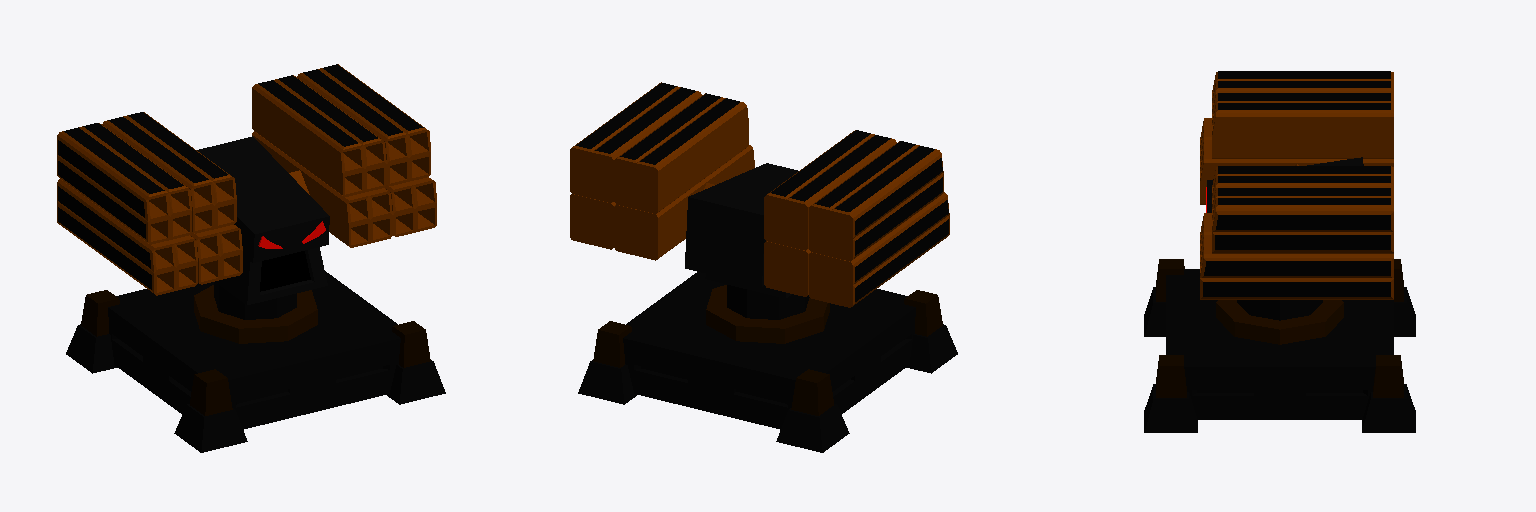
Rendered from MissileTurret.obj.
The picture shows the model from 3 angles: view 1: azimuth 30°, elevation 25°; view 2: azimuth 150°, elevation 25°; view 3: azimuth 270°, elevation 25°; orthographic projection.
Parts seen in each view (by area): view 1: GunsMissileTurret1, BaseMissileTurret1, HeadMissileTurret1, MiddleMissileTurret1; view 2: GunsMissileTurret1, BaseMissileTurret1, HeadMissileTurret1, MiddleMissileTurret1; view 3: GunsMissileTurret1, BaseMissileTurret1, MiddleMissileTurret1.
Boxes of the visible parts, x1,y1,x2,y2 form: GunsMissileTurret1: [57, 64, 436, 295]; BaseMissileTurret1: [66, 271, 445, 452]; HeadMissileTurret1: [197, 136, 329, 304]; MiddleMissileTurret1: [194, 282, 317, 343]; GunsMissileTurret1: [570, 82, 949, 307]; BaseMissileTurret1: [578, 272, 957, 452]; HeadMissileTurret1: [685, 163, 798, 298]; MiddleMissileTurret1: [706, 285, 829, 343]; GunsMissileTurret1: [1200, 71, 1393, 299]; BaseMissileTurret1: [1144, 259, 1415, 432]; MiddleMissileTurret1: [1216, 300, 1343, 344].
Size of the model in its own units: 3.6 by 2.83 by 2.96.